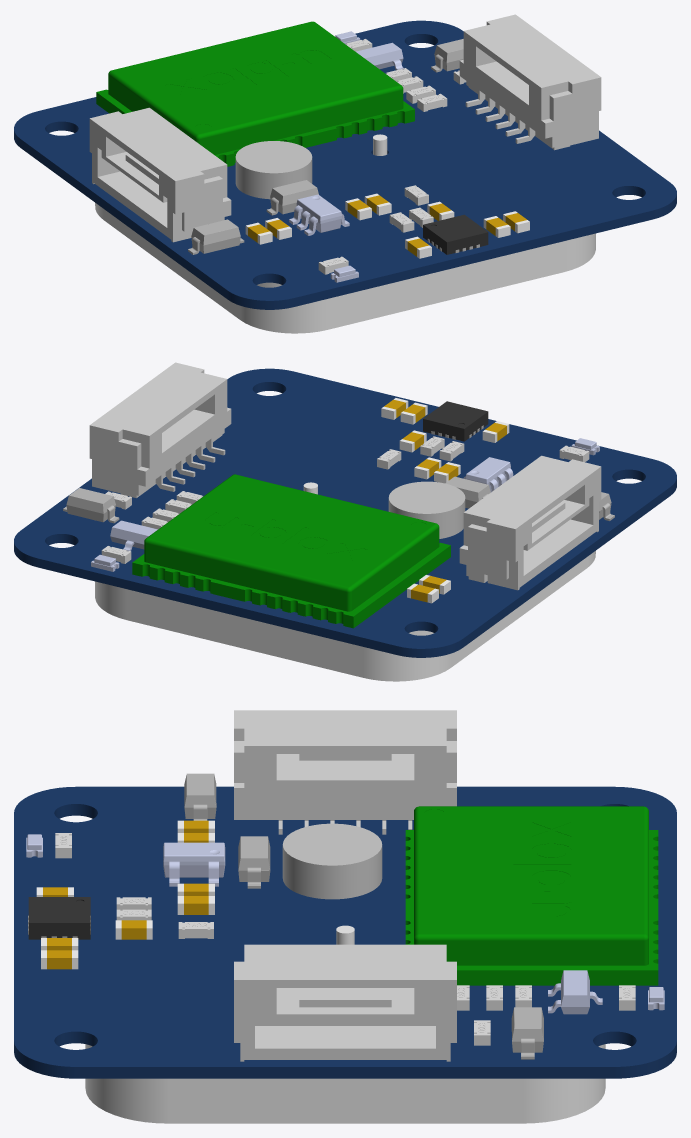
3 renders of one model, top to bottom at view 1: azimuth 30°, elevation 25°; view 2: azimuth 150°, elevation 25°; view 3: azimuth 270°, elevation 25°, orthographic. The views are drawn at different scales.
Visible parts, largest first — view 1: Open_CASCADE_STEP_translator_6_8_2_1_1, neo-m9n, SM06B-GHS-TB_RGB14474460 (×2), CGGBP_25_4_A_02_RGB15987699, Cylinder, SOD123 (×3), User_Library-QFN-16_3x3_2, SOT23-5R, SOT23; view 2: Open_CASCADE_STEP_translator_6_8_2_1_1, neo-m9n, SM06B-GHS-TB_RGB14474460 (×2), CGGBP_25_4_A_02_RGB15987699, Cylinder, SOD123 (×2), User_Library-QFN-16_3x3_2, SOT23-5R, SOT23; view 3: Open_CASCADE_STEP_translator_6_8_2_1_1, SM06B-GHS-TB_RGB14474460 (×2), neo-m9n, CGGBP_25_4_A_02_RGB15987699, Cylinder, SOD123 (×3), User_Library-QFN-16_3x3_2, SOT23-5R, SOT23, User_Library-RES_1609-0603.
Boxes of the visible parts, x1=… form: Open_CASCADE_STEP_translator_6_8_2_1_1: x1=14, y1=20, x2=676, y2=309; neo-m9n: x1=96, y1=21, x2=414, y2=166; SM06B-GHS-TB_RGB14474460 (×2): x1=89, y1=14, x2=601, y2=242; CGGBP_25_4_A_02_RGB15987699: x1=95, y1=134, x2=595, y2=333; Cylinder: x1=235, y1=141, x2=312, y2=199; SOD123 (×3): x1=188, y1=39, x2=463, y2=254; User_Library-QFN-16_3x3_2: x1=423, y1=214, x2=488, y2=254; SOT23-5R: x1=289, y1=194, x2=349, y2=235; SOT23: x1=356, y1=42, x2=403, y2=70; Open_CASCADE_STEP_translator_6_8_2_1_1: x1=14, y1=368, x2=676, y2=657; neo-m9n: x1=132, y1=474, x2=450, y2=628; SM06B-GHS-TB_RGB14474460 (×2): x1=89, y1=362, x2=601, y2=590; CGGBP_25_4_A_02_RGB15987699: x1=95, y1=482, x2=595, y2=681; Cylinder: x1=388, y1=481, x2=465, y2=538; SOD123 (×2): x1=63, y1=476, x2=490, y2=523; User_Library-QFN-16_3x3_2: x1=423, y1=401, x2=488, y2=441; SOT23-5R: x1=463, y1=457, x2=513, y2=491; SOT23: x1=110, y1=520, x2=157, y2=551; Open_CASCADE_STEP_translator_6_8_2_1_1: x1=14, y1=786, x2=676, y2=1078; SM06B-GHS-TB_RGB14474460 (×2): x1=234, y1=710, x2=456, y2=1061; neo-m9n: x1=405, y1=806, x2=658, y2=985; CGGBP_25_4_A_02_RGB15987699: x1=85, y1=925, x2=605, y2=1123; Cylinder: x1=282, y1=823, x2=382, y2=899; SOD123 (×3): x1=184, y1=773, x2=543, y2=1059; User_Library-QFN-16_3x3_2: x1=28, y1=897, x2=90, y2=939; SOT23-5R: x1=163, y1=842, x2=225, y2=886; SOT23: x1=548, y1=970, x2=602, y2=1014; User_Library-RES_1609-0603: x1=178, y1=922, x2=213, y2=938.
Size of the model in its own units: 0.032 by 0.00947 by 0.032.
